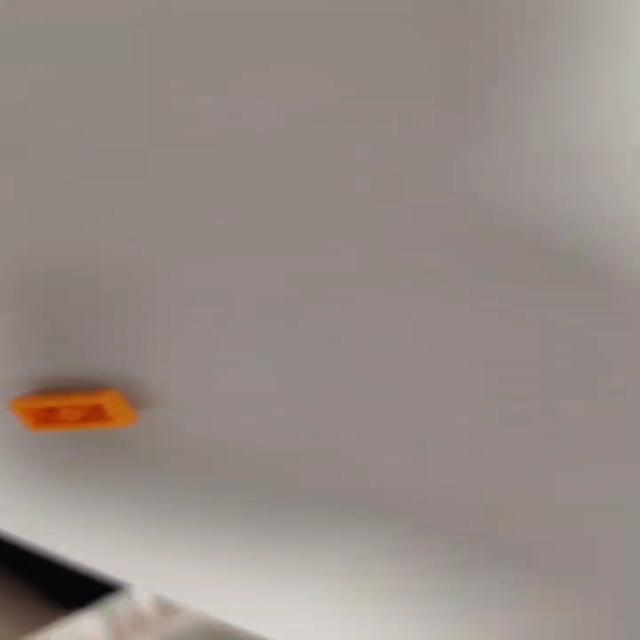C2x1x0: (0, 385, 141, 435)
